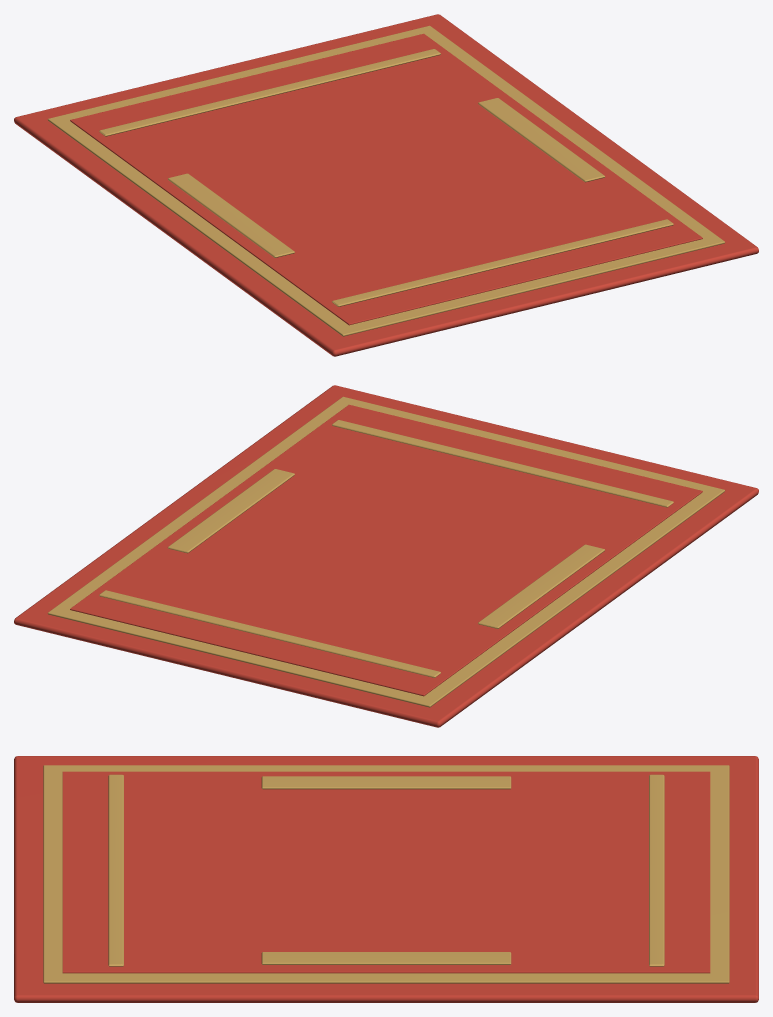
File: rug_red_gold.glb
3 renders of one model, top to bottom at view 1: azimuth 30°, elevation 25°; view 2: azimuth 150°, elevation 25°; view 3: azimuth 270°, elevation 25°, orthographic. The views are drawn at different scales.
Parts seen in each view (by area): view 1: field, carpet, border, end border, end border.001, central motif.001, central motif; view 2: field, carpet, border, end border.001, end border, central motif.001, central motif; view 3: field, carpet, border, central motif, central motif.001, end border, end border.001.
Part boxes in pixels (left/top/right/bottom): field: left=70, top=33, right=702, bottom=325; carpet: left=14, top=14, right=758, bottom=356; border: left=47, top=25, right=725, bottom=336; end border: left=332, top=219, right=673, bottom=306; end border.001: left=99, top=49, right=440, bottom=136; central motif.001: left=478, top=98, right=604, bottom=182; central motif: left=168, top=173, right=294, bottom=257; field: left=70, top=404, right=702, bottom=696; carpet: left=14, top=385, right=758, bottom=727; border: left=47, top=396, right=725, bottom=707; end border.001: left=99, top=590, right=440, bottom=677; end border: left=332, top=420, right=673, bottom=507; central motif.001: left=168, top=469, right=294, bottom=553; central motif: left=478, top=544, right=604, bottom=628; field: left=62, top=771, right=710, bottom=973; carpet: left=14, top=756, right=758, bottom=1002; border: left=43, top=765, right=729, bottom=983; central motif: left=261, top=776, right=511, bottom=789; central motif.001: left=261, top=952, right=511, bottom=964; end border: left=108, top=774, right=123, bottom=966; end border.001: left=649, top=774, right=664, bottom=966.
Bounding box in the file's own units: 1.65 × 0.0445 × 2.15.
